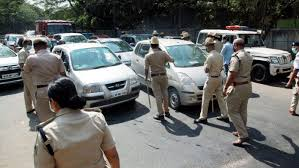mask: (48, 82, 72, 111), (232, 38, 245, 51), (23, 39, 31, 49), (205, 43, 214, 51), (222, 35, 229, 43), (291, 44, 298, 51)
